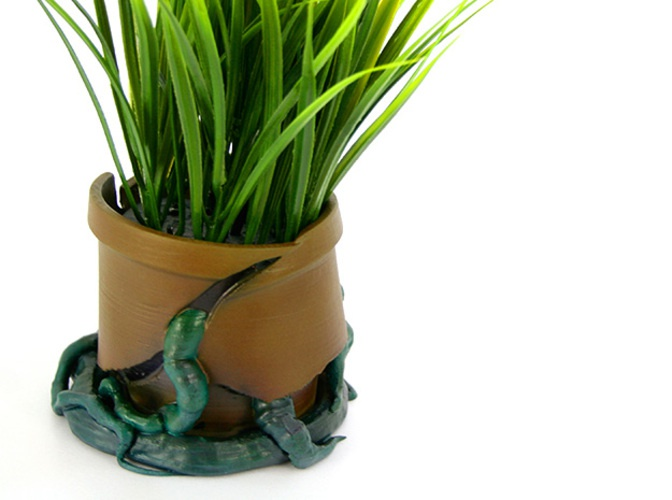flowerpot: (90, 174, 346, 443)
